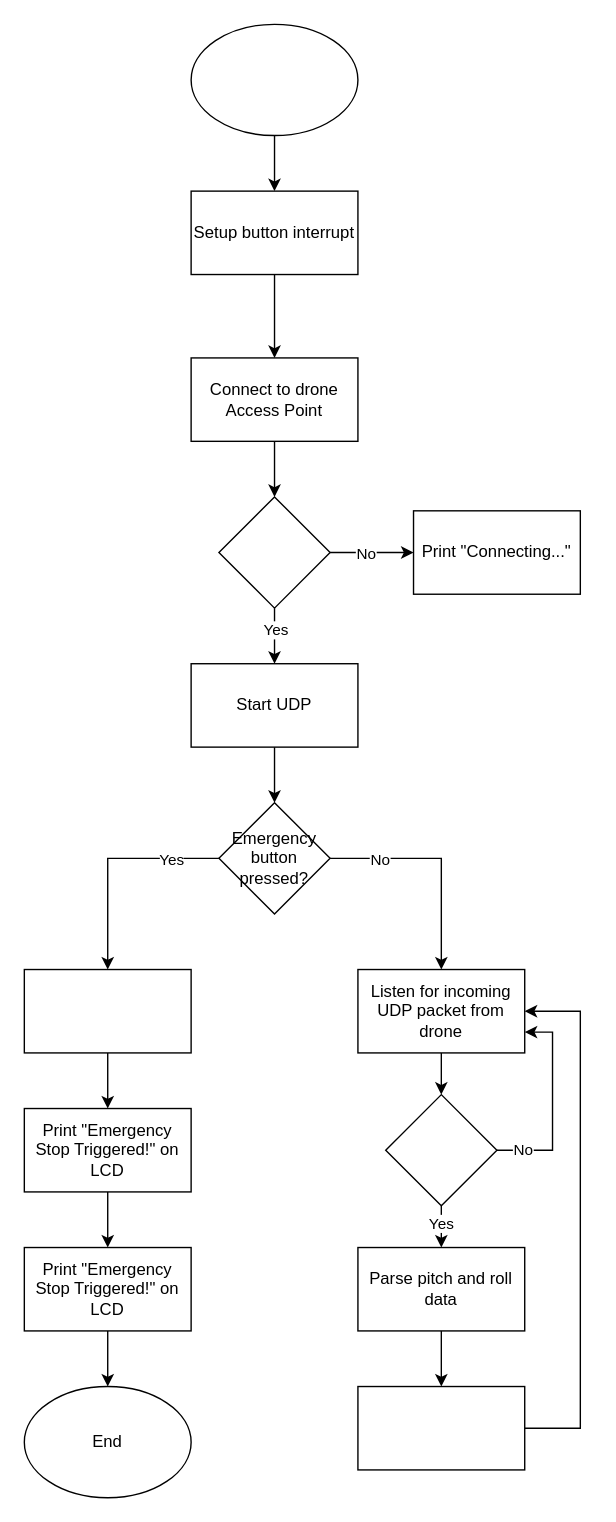
The diagram is 616 pixels wide and 1522 high, and some of its shapes have lost their labels. Each missing label, with the centre of its shape:
Connected?: the point at 274,552
Display data on LCD: the point at 441,1427
Incoming telemetry data?: the point at 440,1149
Send EMERGENCY_STOP packet to drone: the point at 107,1010
Start: the point at 274,79
